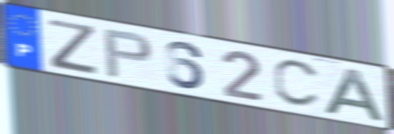2: (221, 49, 265, 104)
6: (164, 40, 207, 91)
A: (321, 66, 389, 125)
C: (271, 59, 323, 110)
P: (102, 27, 155, 80)
Z: (47, 17, 99, 76)
